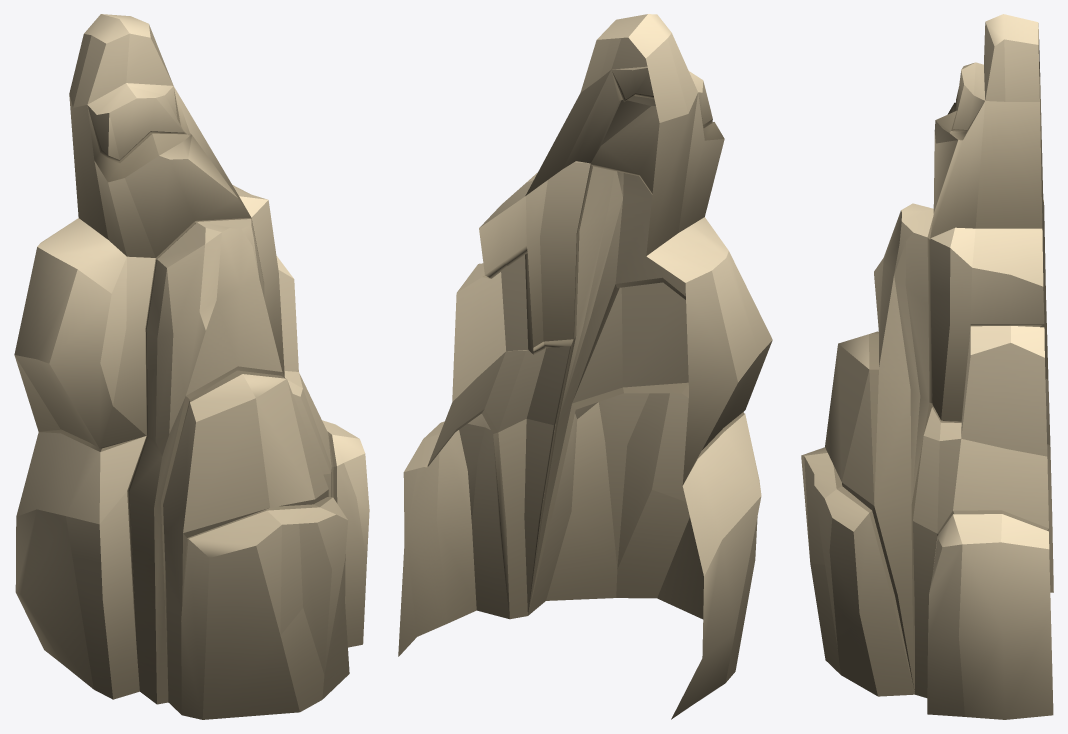
File: cliffSideBare.fbx
3 views of the same model, side by side, from view 1: azimuth 30°, elevation 25°; view 2: azimuth 150°, elevation 25°; view 3: azimuth 270°, elevation 25° (orthographic). The views are drawn at different scales.
Visible parts, largest first — view 1: cliffSideBare; view 2: cliffSideBare; view 3: cliffSideBare.
Boxes of the visible parts, x1,y1,x2,y2 form: cliffSideBare: [14, 14, 369, 719]; cliffSideBare: [398, 14, 772, 719]; cliffSideBare: [801, 14, 1053, 719].
Size of the model in its own units: 1136 by 2157 by 813.
